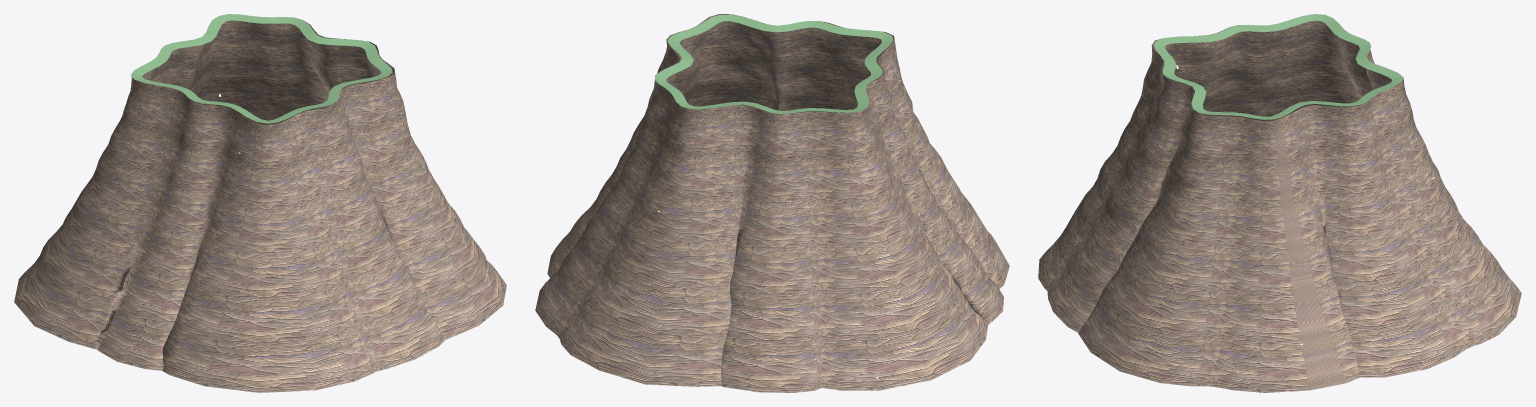
The model's file is CliffWall_stack_10.glb.
3 renders of one model, left to right at view 1: azimuth 30°, elevation 25°; view 2: azimuth 150°, elevation 25°; view 3: azimuth 270°, elevation 25°, orthographic. The views are drawn at different scales.
Visible parts, largest first — view 1: CliffWall_stack_10-rock0, CliffWall_stack_10-lip0; view 2: CliffWall_stack_10-rock0, CliffWall_stack_10-lip0; view 3: CliffWall_stack_10-rock0, CliffWall_stack_10-lip0.
Boxes of the visible parts, box(x1,y1,x2,y2) form: CliffWall_stack_10-rock0: box(14, 20, 506, 392); CliffWall_stack_10-lip0: box(130, 14, 392, 123); CliffWall_stack_10-rock0: box(535, 14, 1009, 392); CliffWall_stack_10-lip0: box(654, 14, 893, 113); CliffWall_stack_10-rock0: box(1038, 20, 1521, 392); CliffWall_stack_10-lip0: box(1153, 14, 1403, 119).
Bounding box in the file's own units: 369 × 188 × 368.
Materials: 4 (1 with a texture image).
